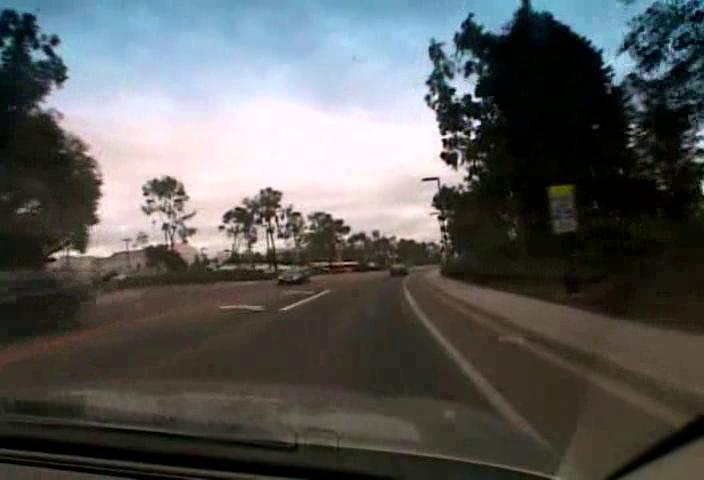schoolSpeedLimit25: (549, 183, 577, 233)
